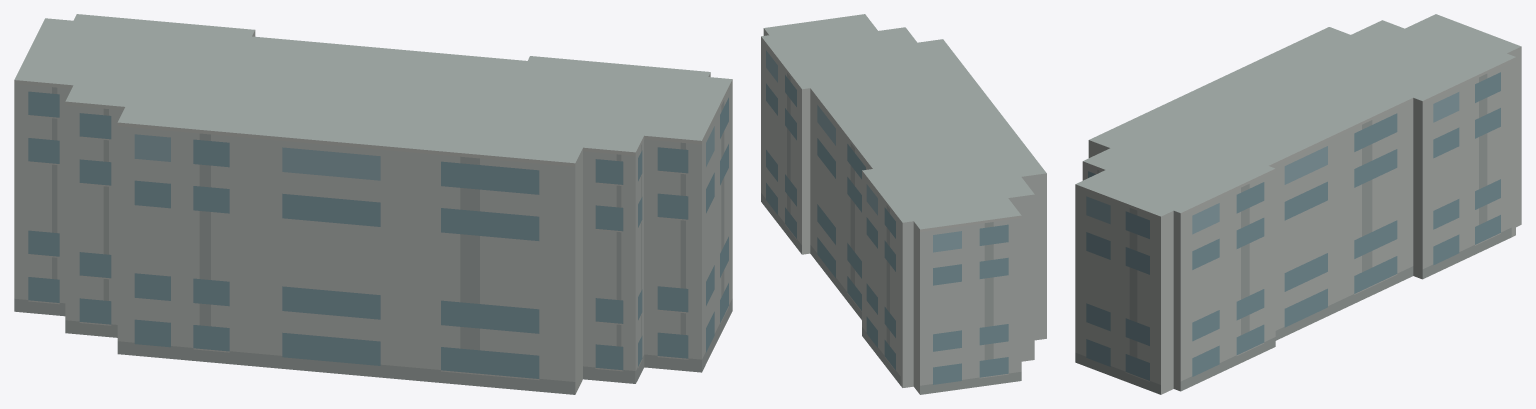
Rendered from residential-f5f68a97-b899-4af8-811e-b3594296c813.glb.
The picture shows the model from 3 angles, left to right: view 1: azimuth 30°, elevation 25°; view 2: azimuth 150°, elevation 25°; view 3: azimuth 270°, elevation 25°; orthographic projection. The views are drawn at different scales.
Visible parts, largest first — view 1: residential-f5f68a97-b899-4af8-811e-b3594296c813.tmp; view 2: residential-f5f68a97-b899-4af8-811e-b3594296c813.tmp; view 3: residential-f5f68a97-b899-4af8-811e-b3594296c813.tmp.
Boxes of the visible parts, bbox=[...] form: residential-f5f68a97-b899-4af8-811e-b3594296c813.tmp: bbox=[14, 14, 732, 394]; residential-f5f68a97-b899-4af8-811e-b3594296c813.tmp: bbox=[761, 14, 1046, 394]; residential-f5f68a97-b899-4af8-811e-b3594296c813.tmp: bbox=[1075, 14, 1521, 394].
Bounding box in the file's own units: 37.18 × 15.25 × 34.6.
